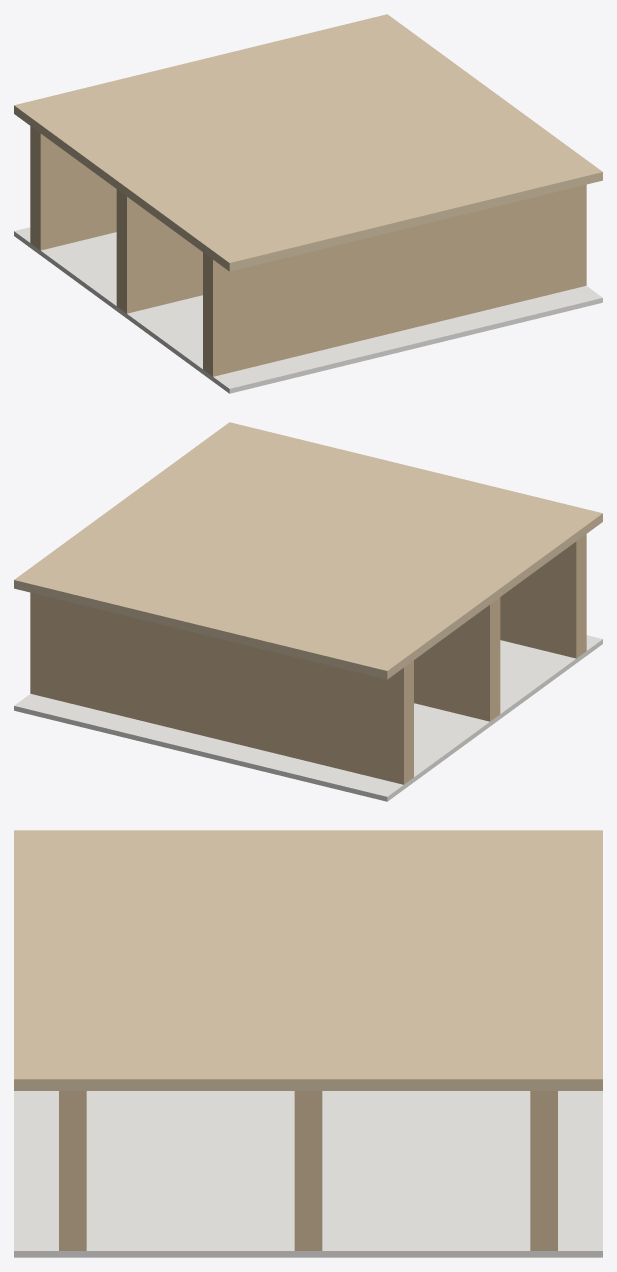
File: structure.floor.floor_joist_300.glb
3 renders of one model, top to bottom at view 1: azimuth 30°, elevation 25°; view 2: azimuth 150°, elevation 25°; view 3: azimuth 270°, elevation 25°, orthographic. The views are drawn at different scales.
Visible parts, largest first — view 1: main__plywood, main__softwood, main__plasterboard; view 2: main__plywood, main__softwood, main__plasterboard; view 3: main__plywood, main__plasterboard, main__softwood.
Part boxes in pixels (left/top/right/bottom): main__plywood: left=14, top=14, right=602, bottom=271; main__softwood: left=30, top=126, right=586, bottom=376; main__plasterboard: left=14, top=227, right=602, bottom=393; main__plywood: left=14, top=422, right=602, bottom=679; main__softwood: left=30, top=534, right=586, bottom=784; main__plasterboard: left=14, top=635, right=602, bottom=801; main__plywood: left=14, top=830, right=602, bottom=1090; main__plasterboard: left=14, top=1091, right=602, bottom=1257; main__softwood: left=59, top=1091, right=557, bottom=1250.
Size of the model in its own units: 1 by 0.3345 by 1.
